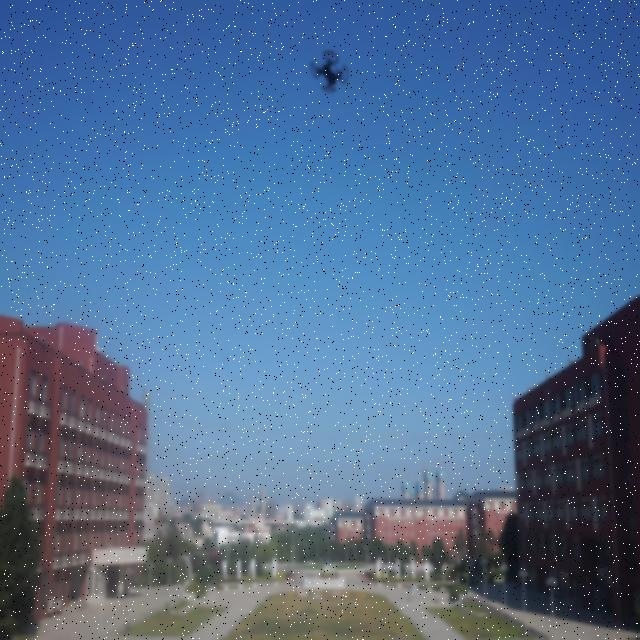UAV: (310, 51, 350, 92)
